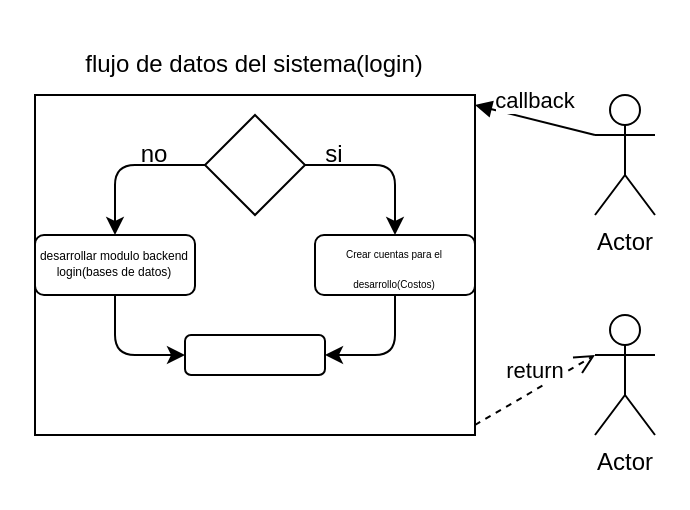
The diagram is 690 pixels wide and 510 high, and some of its shapes have lost their labels. The centre of each missing label's shape, as x and y in pixels:
ingreso correcto: [254,354]
logueo con appi?: [254,164]
